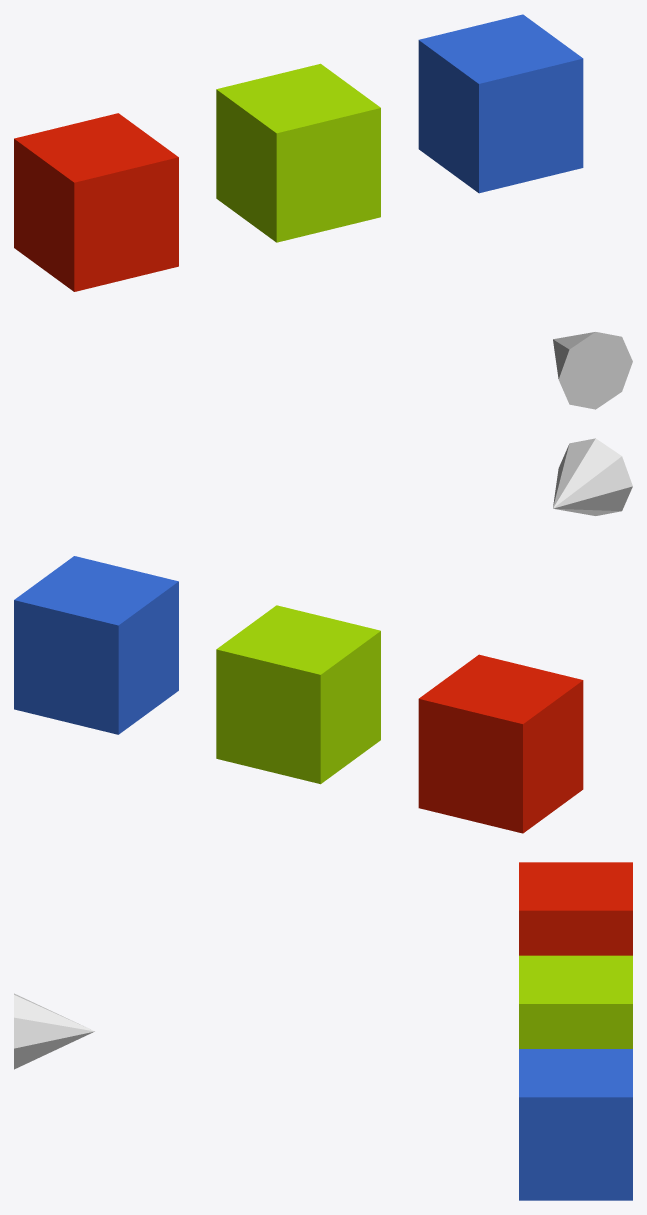
File: demo-game-objects.glb
The picture shows the model from 3 angles, top to bottom: view 1: azimuth 30°, elevation 25°; view 2: azimuth 150°, elevation 25°; view 3: azimuth 270°, elevation 25°; orthographic projection. The views are drawn at different scales.
Visible parts, largest first — view 1: Cube.001, Cube, Cube.002, Cone.001; view 2: Cube.002, Cube, Cube.001, Cone.001; view 3: Cube.001, Cube, Cube.002, Cone.001.
Boxes of the visible parts, left/top/right/bottom form: Cube.001: left=418, top=14, right=583, bottom=193; Cube: left=216, top=63, right=380, bottom=242; Cube.002: left=14, top=113, right=178, bottom=291; Cone.001: left=553, top=332, right=632, bottom=409; Cube.002: left=418, top=654, right=583, bottom=833; Cube: left=216, top=605, right=380, bottom=784; Cube.001: left=14, top=556, right=178, bottom=734; Cone.001: left=553, top=438, right=632, bottom=515; Cube.001: left=519, top=1049, right=632, bottom=1200; Cube: left=519, top=955, right=632, bottom=1048; Cube.002: left=519, top=862, right=632, bottom=955; Cone.001: left=14, top=993, right=94, bottom=1069.
Size of the model in its own units: 5.03 by 1.03 by 5.6.
